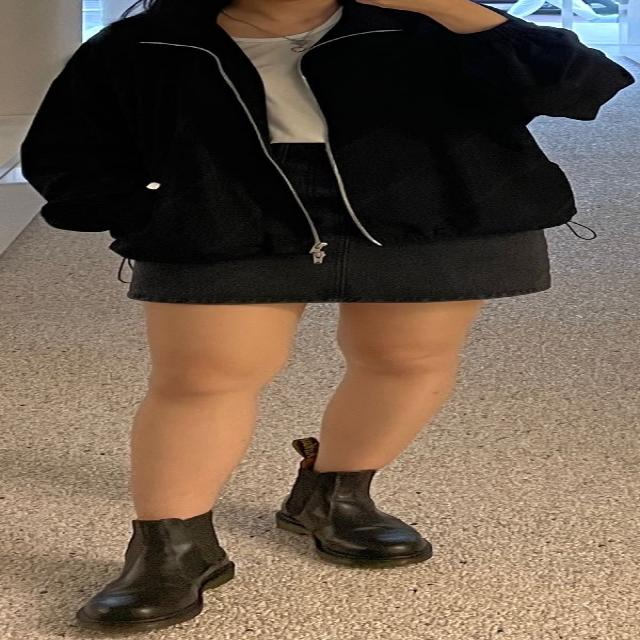jacket: (21, 5, 640, 256)
skirt: (125, 139, 558, 306)
